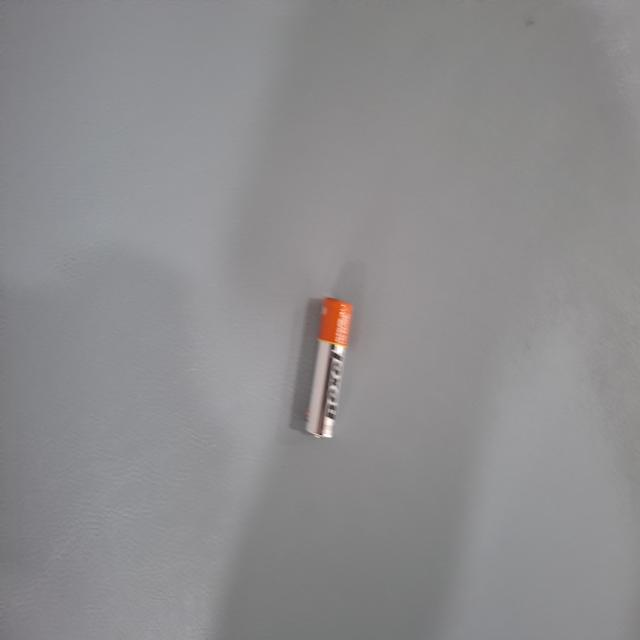AA: (222, 383, 331, 448)
